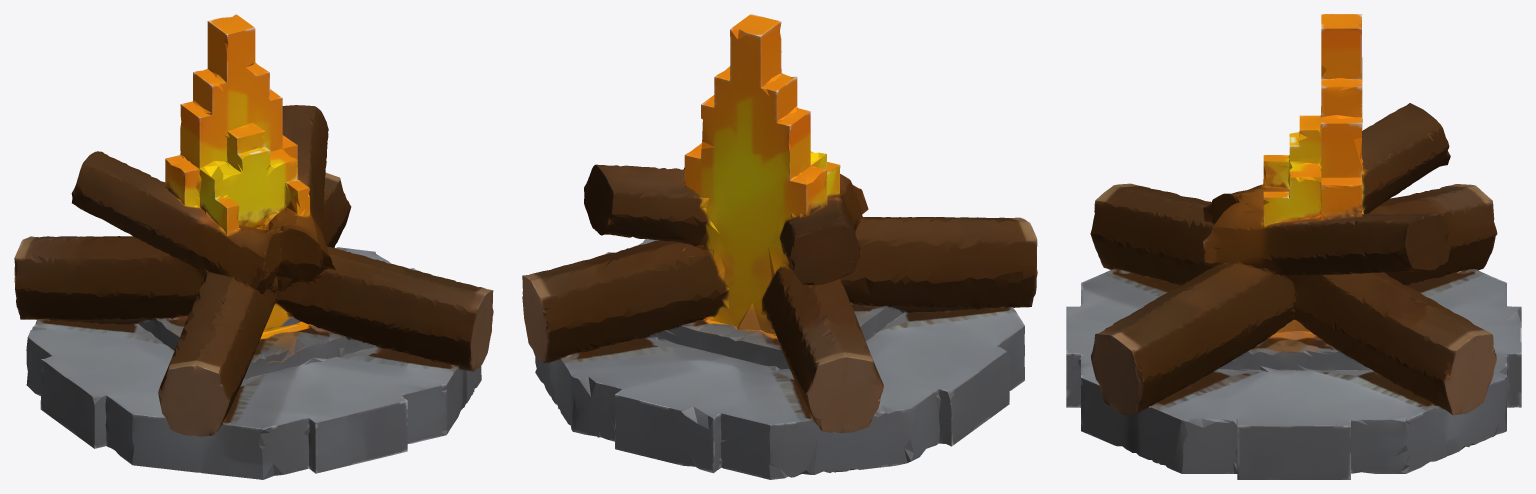
The picture shows the model from 3 angles, left to right: view 1: azimuth 30°, elevation 25°; view 2: azimuth 150°, elevation 25°; view 3: azimuth 270°, elevation 25°; orthographic projection. The views are drawn at different scales.
Visible parts, largest first — view 1: 16; view 2: 16; view 3: 16.
Part boxes in pixels (box(x1,y1,x2,y2)): 16: box(14, 14, 493, 479); 16: box(522, 14, 1037, 479); 16: box(1066, 14, 1521, 479).
Bounding box in the file's own units: 1.4 × 1.23 × 1.4.
1 material, 1 textured.
